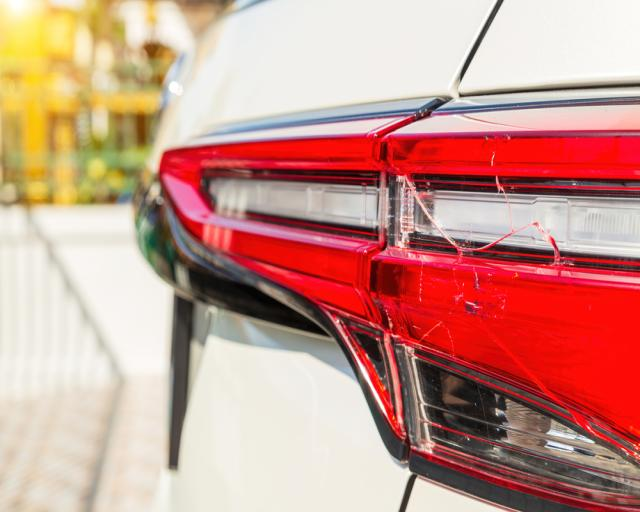lamp broken: (369, 85, 640, 512)
